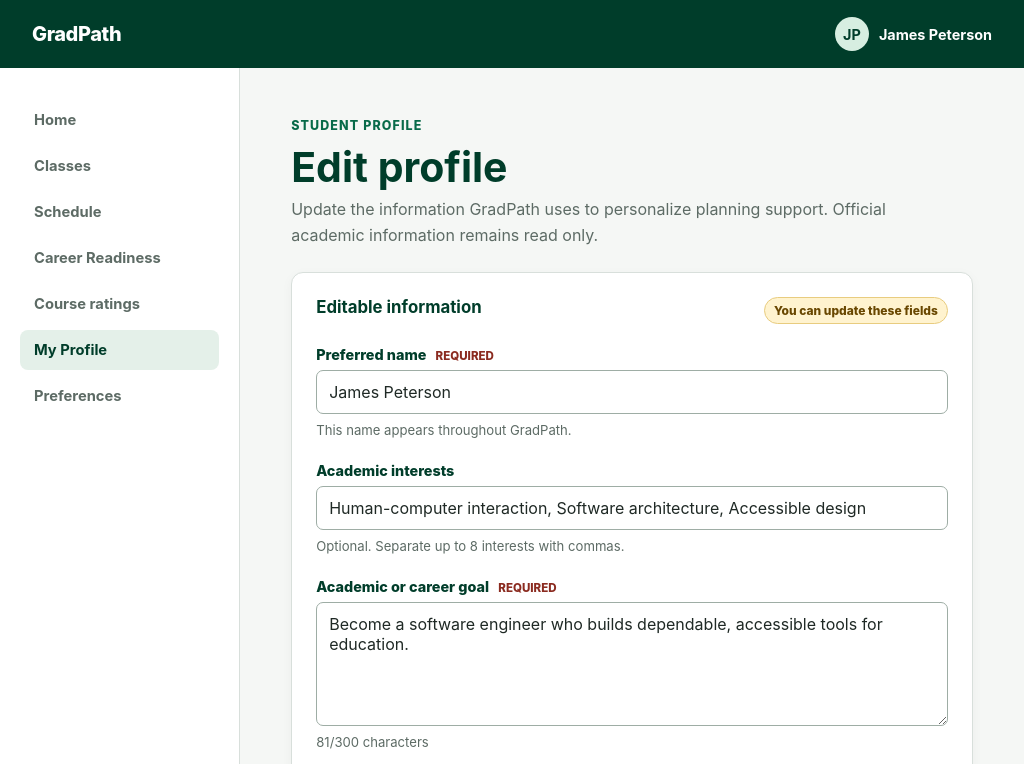
Scenario: cancels a draft without sending an update
Replace the text in the field labelled "Preferred name Required" with "Discard this draft" at (632, 392), box [316, 370, 948, 414]
(page scrolled)
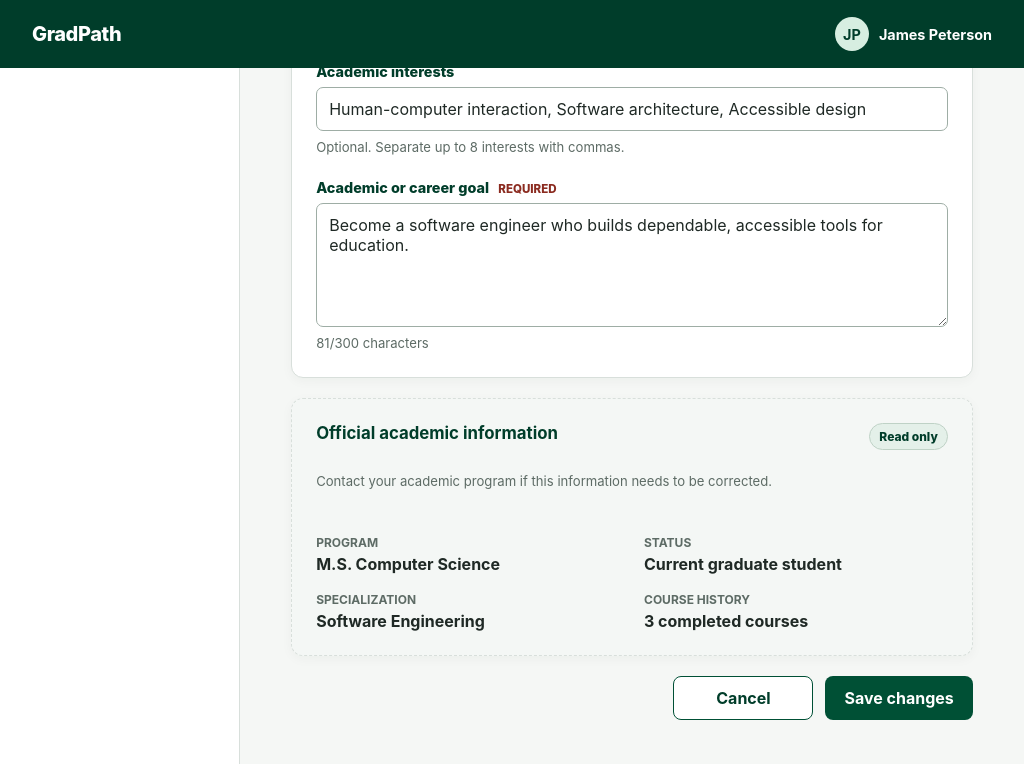
Click the button "Cancel" at (744, 698), box [674, 676, 814, 720]
(page scrolled)
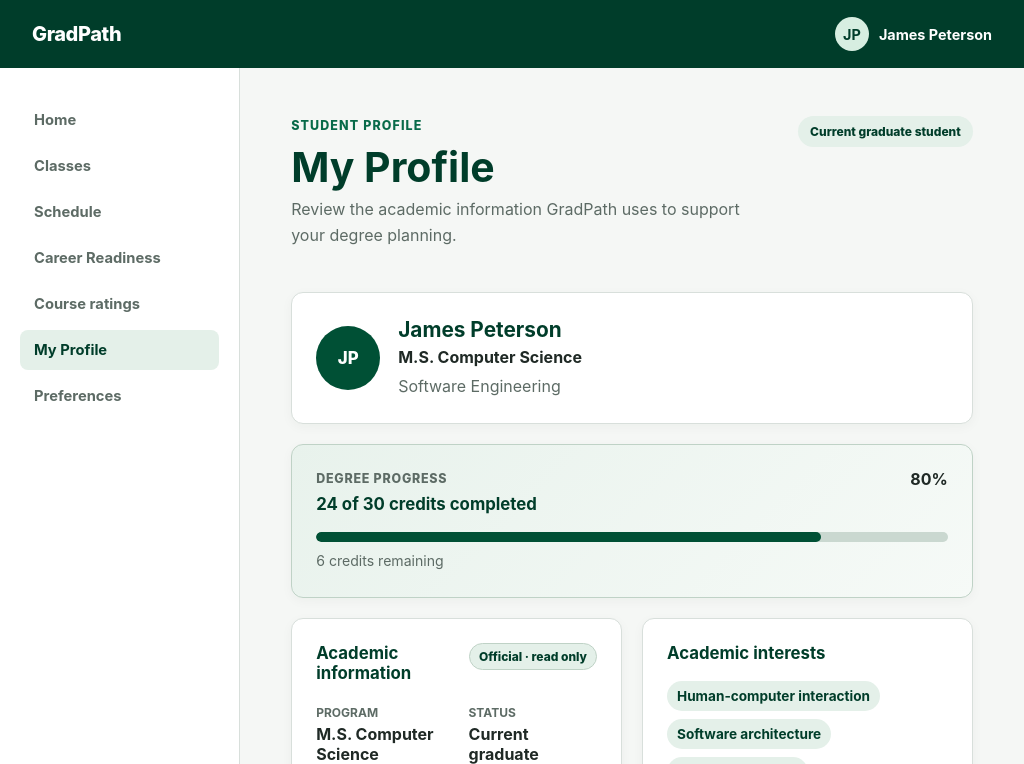
expect the heading "James Peterson" is shown: met, box [398, 317, 582, 342]
